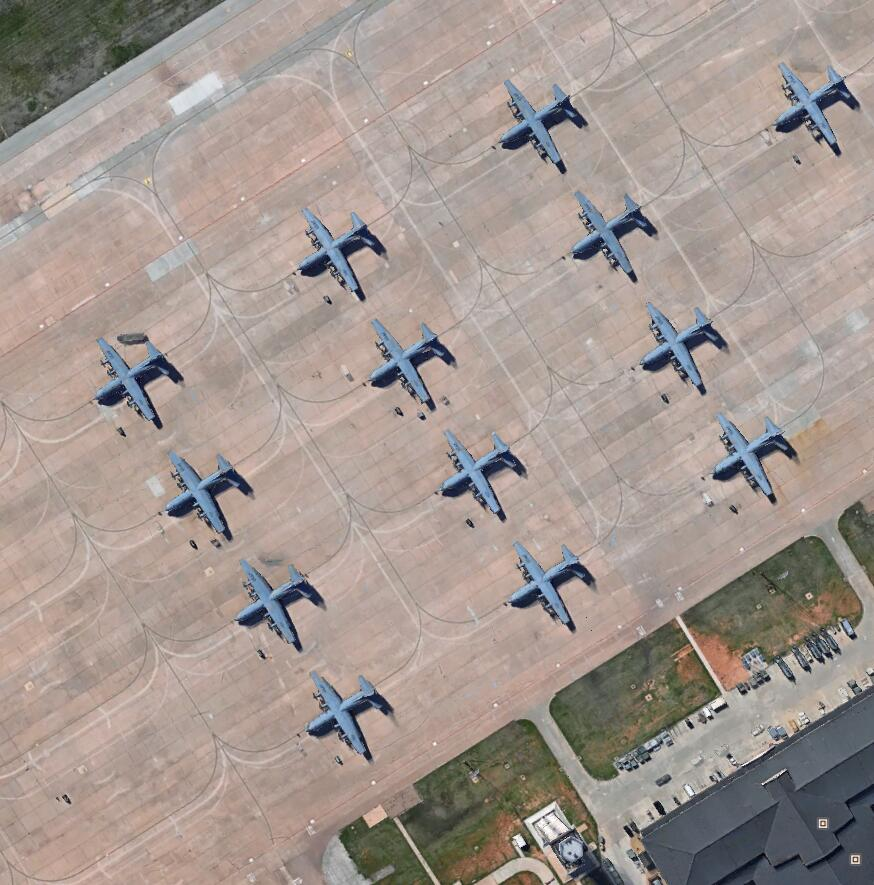A2: (355, 317, 463, 421), (770, 58, 866, 165), (231, 554, 331, 656), (86, 334, 191, 431), (292, 202, 389, 307), (491, 77, 594, 175), (302, 669, 403, 767), (565, 186, 661, 285), (503, 540, 602, 635), (636, 302, 733, 398), (435, 427, 529, 524), (156, 451, 254, 541), (710, 410, 801, 506)
